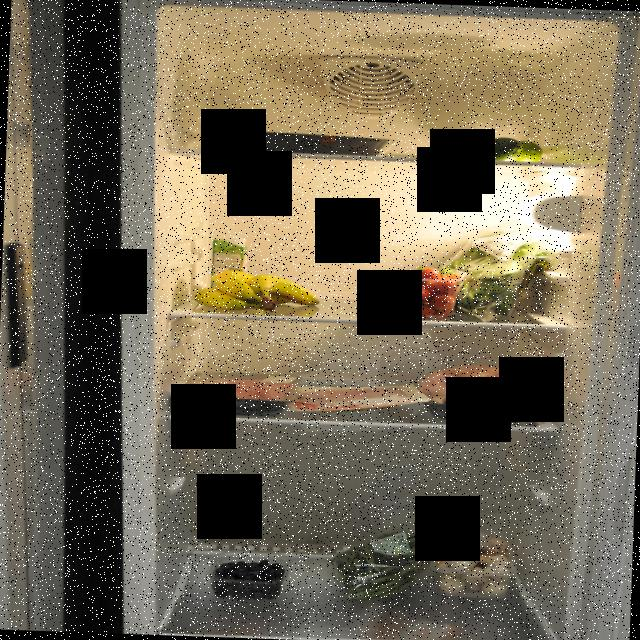banana: (188, 265, 322, 315)
blueberries: (210, 552, 288, 602)
chicken: (410, 358, 547, 424)
green_beans: (328, 516, 439, 606)
ground_beef: (189, 369, 295, 413)
ham: (295, 382, 405, 418)
heavy_cream: (210, 235, 248, 291)
lime: (464, 134, 546, 164)
mushrooms: (430, 530, 522, 602)
spinach: (433, 224, 559, 324)
strawberries: (369, 262, 464, 321)
